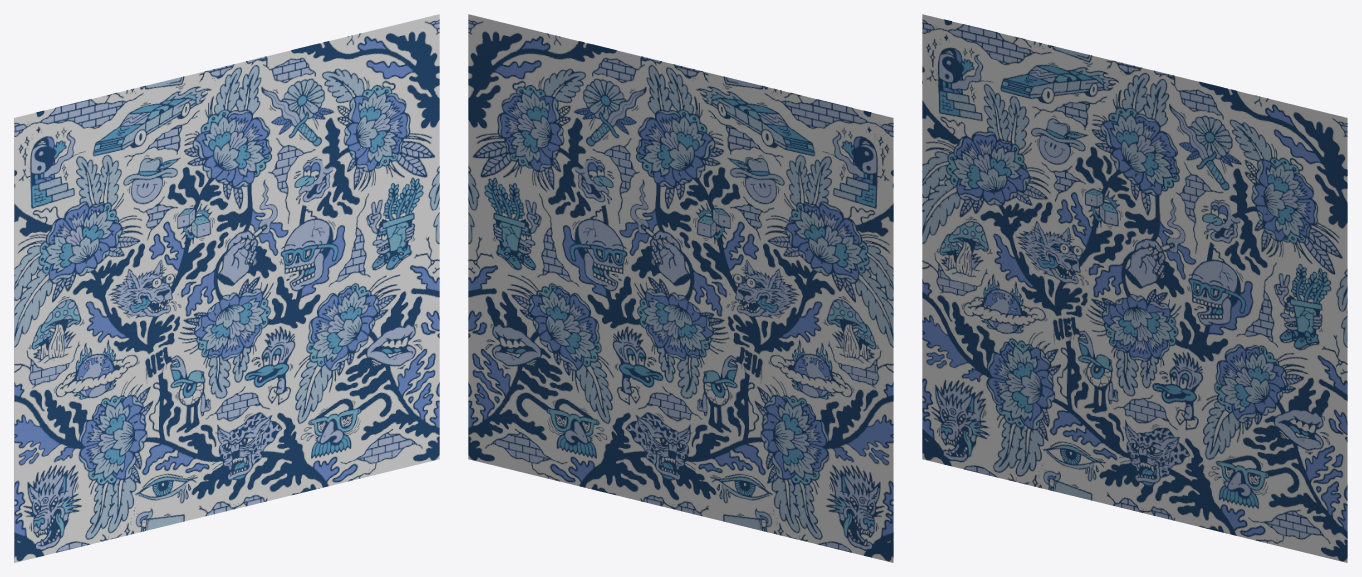
The model's file is porcelain2.glb.
The picture shows the model from 3 angles, left to right: view 1: azimuth 30°, elevation 25°; view 2: azimuth 150°, elevation 25°; view 3: azimuth 330°, elevation 25°; orthographic projection.
Parts seen in each view (by area): view 1: Fracture 10, Fracture, Fracture 9, Fracture 8, Fracture 6, Fracture 1, Fracture 3, Fracture 7, Fracture 5, Fracture 2, Fracture 4; view 2: Fracture 10, Fracture, Fracture 9, Fracture 8, Fracture 6, Fracture 1, Fracture 3, Fracture 7, Fracture 5, Fracture 2, Fracture 4; view 3: Fracture 10, Fracture, Fracture 9, Fracture 8, Fracture 6, Fracture 1, Fracture 3, Fracture 7, Fracture 5, Fracture 2, Fracture 4.
Part boxes in pixels (<box>): Fracture 10: <box>14,302,291,562</box>; Fracture: <box>14,82,249,309</box>; Fracture 9: <box>285,159,439,495</box>; Fracture 8: <box>160,14,439,197</box>; Fracture 6: <box>279,168,423,299</box>; Fracture 1: <box>246,295,330,447</box>; Fracture 3: <box>154,257,263,328</box>; Fracture 7: <box>225,170,315,238</box>; Fracture 5: <box>260,194,336,288</box>; Fracture 2: <box>212,281,281,357</box>; Fracture 4: <box>197,201,310,273</box>; Fracture 10: <box>616,302,893,562</box>; Fracture: <box>658,82,893,309</box>; Fracture 9: <box>468,159,622,495</box>; Fracture 8: <box>468,14,747,197</box>; Fracture 6: <box>484,168,628,299</box>; Fracture 1: <box>577,295,661,447</box>; Fracture 3: <box>644,257,753,328</box>; Fracture 7: <box>592,170,682,238</box>; Fracture 5: <box>571,194,647,288</box>; Fracture 2: <box>626,281,695,357</box>; Fracture 4: <box>597,201,710,273</box>; Fracture 10: <box>922,206,1198,526</box>; Fracture: <box>922,14,1157,266</box>; Fracture 9: <box>1193,263,1347,562</box>; Fracture 8: <box>1068,49,1347,264</box>; Fracture 6: <box>1187,248,1331,345</box>; Fracture 1: <box>1154,326,1238,475</box>; Fracture 3: <box>1062,259,1171,321</box>; Fracture 7: <box>1132,181,1223,242</box>; Fracture 5: <box>1167,241,1244,313</box>; Fracture 2: <box>1119,299,1189,366</box>; Fracture 4: <box>1105,237,1218,272</box>.
Bounding box in the file's own units: 2 × 2 × 0.0025.
1 material, 1 textured.
